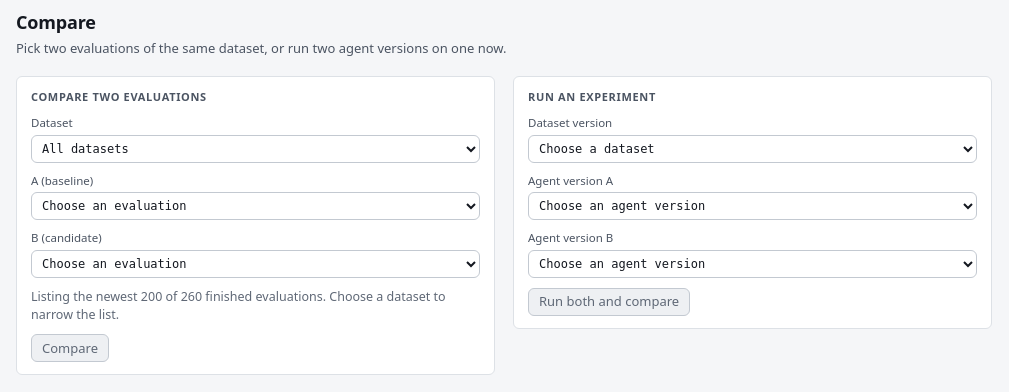
CompareView › lists finished suites from the server, narrowed by dataset, and says when the list is cut
The width and height of the screenshot is (1009, 392).
Expected: the element that starts with "Compare two evaluations" shows "the newest 200 of 260 finished evaluations", x1=16 y1=76 x2=495 y2=375
Select "task-planner" in the dropdown labelled "Dataset" at point(256, 148), box x1=31 y1=134 x2=480 y2=162
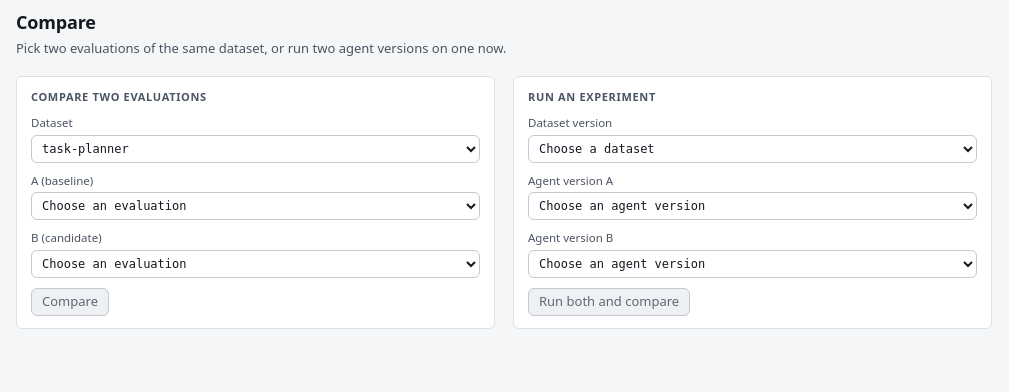
Now the text "the newest" is gone
